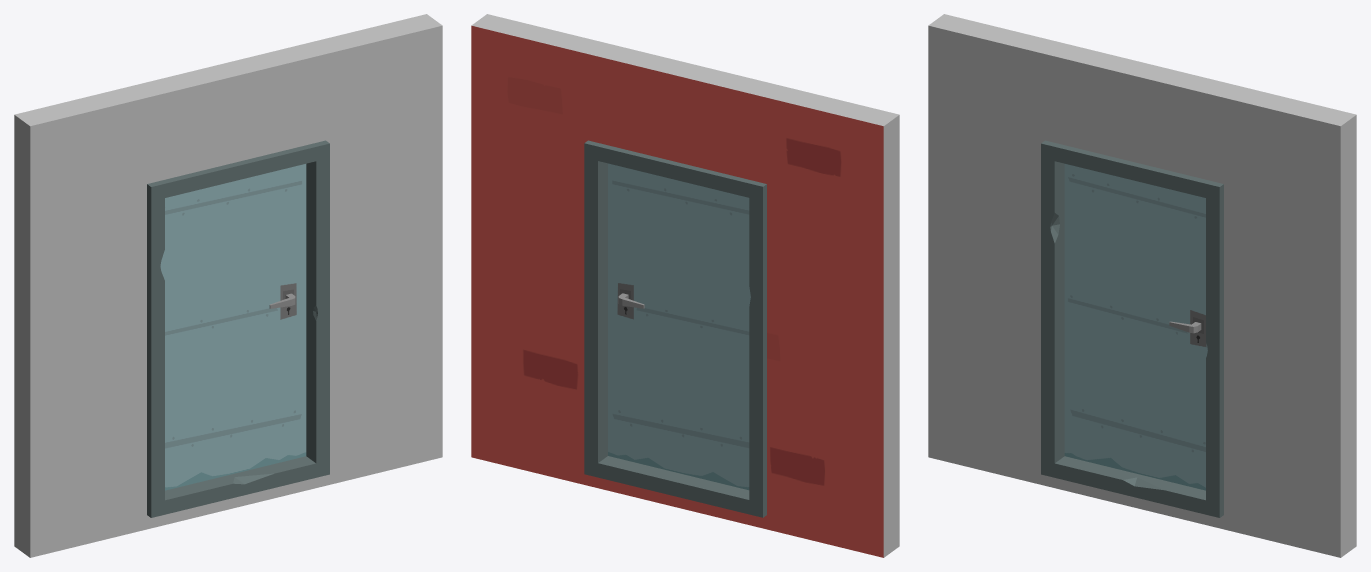
The model's file is Wh_Door_Small.fbx.
3 renders of one model, left to right at view 1: azimuth 30°, elevation 25°; view 2: azimuth 150°, elevation 25°; view 3: azimuth 330°, elevation 25°, orthographic.
Parts seen in each view (by area): view 1: Cube.004, Cube.070; view 2: Cube.004, Cube.070; view 3: Cube.004, Cube.070.
Boxes of the visible parts, box(x1,y1,x2,y2) form: Cube.004: box(14, 14, 442, 557); Cube.070: box(160, 164, 306, 490); Cube.004: box(471, 14, 899, 557); Cube.070: box(608, 163, 750, 490); Cube.004: box(928, 14, 1356, 557); Cube.070: box(1064, 164, 1207, 490).
Size of the model in its own units: 300 by 300 by 30.
